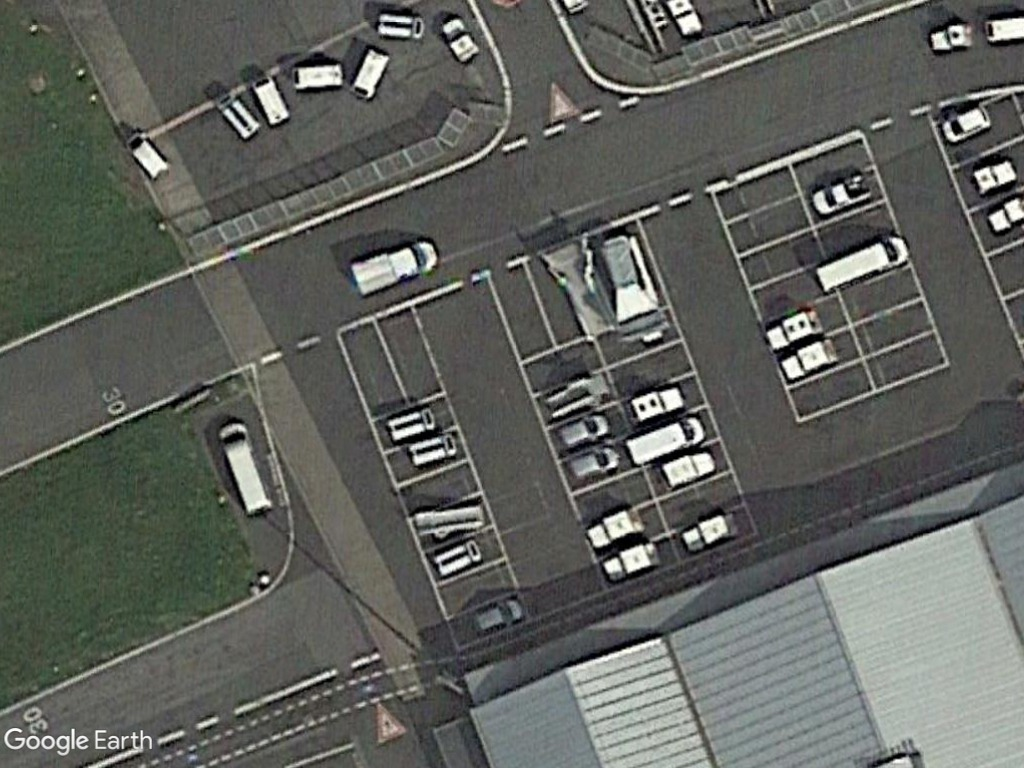car: (934, 100, 994, 147), (566, 441, 624, 483), (553, 410, 612, 450)
van: (806, 227, 913, 294), (345, 234, 445, 302), (215, 418, 275, 519), (620, 413, 711, 470)
